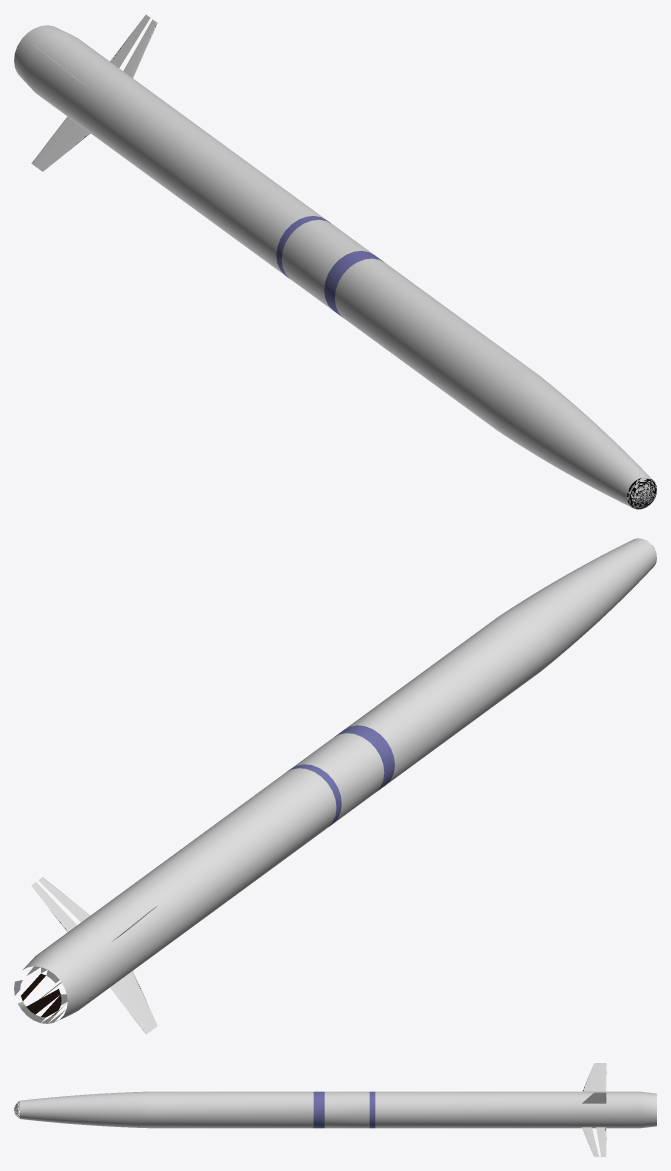
The model's file is aim-132.glb.
3 renders of one model, top to bottom at view 1: azimuth 30°, elevation 25°; view 2: azimuth 150°, elevation 25°; view 3: azimuth 270°, elevation 25°, orthographic. The views are drawn at different scales.
Parts seen in each view (by area): view 1: AIM-132; view 2: AIM-132; view 3: AIM-132.
Boxes of the visible parts, x1,y1,x2,y2 form: AIM-132: (14,14,656,509); AIM-132: (14,538,656,1034); AIM-132: (14,1063,656,1156).
Bounding box in the file's own units: 0.0442 × 0.0442 × 0.4.
